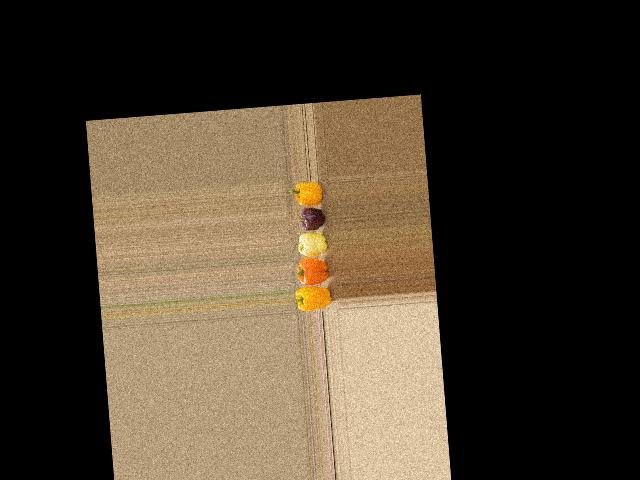bell_pepper: (288, 178, 329, 205)
